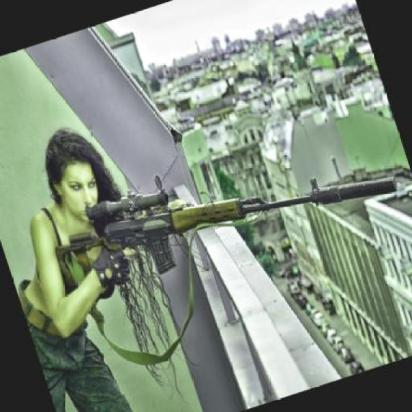Gun: (84, 171, 404, 278)
